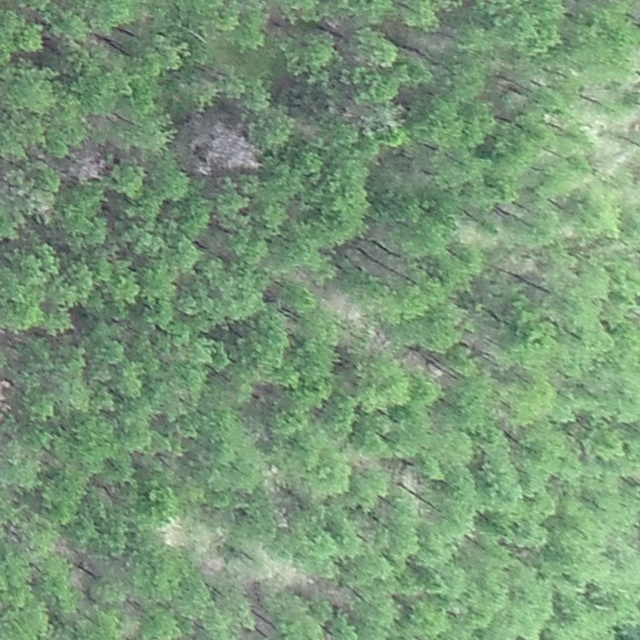unhealthy: (179, 110, 264, 177), (398, 346, 450, 385), (67, 142, 109, 182), (197, 555, 226, 579), (0, 376, 15, 419)
